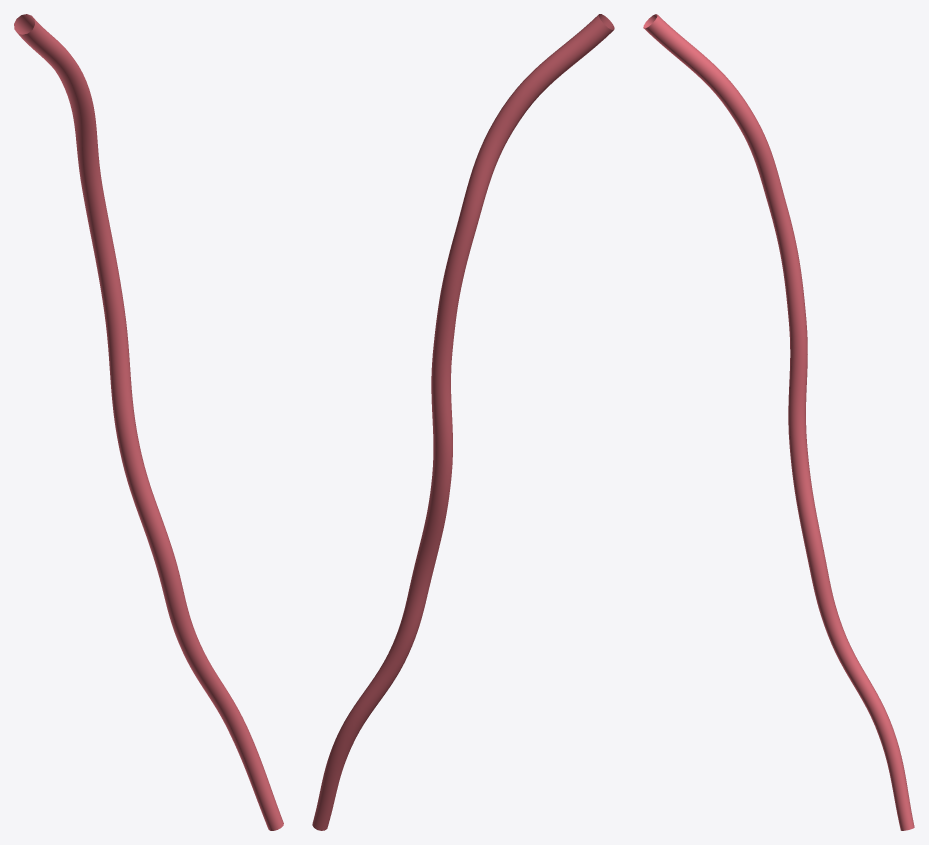
3 views of the same model, side by side, from view 1: azimuth 30°, elevation 25°; view 2: azimuth 150°, elevation 25°; view 3: azimuth 330°, elevation 25° (orthographic). The views are drawn at different scales.
Visible parts, largest first — view 1: ZA_af112a1f3d596fa2; view 2: ZA_af112a1f3d596fa2; view 3: ZA_af112a1f3d596fa2.
Part boxes in pixels (box(x1,y1,x2,y2)): ZA_af112a1f3d596fa2: box(14, 14, 283, 830); ZA_af112a1f3d596fa2: box(312, 14, 614, 830); ZA_af112a1f3d596fa2: box(643, 14, 914, 830).
Bounding box in the file's own units: 0.0804 × 0.2378 × 0.0253.
